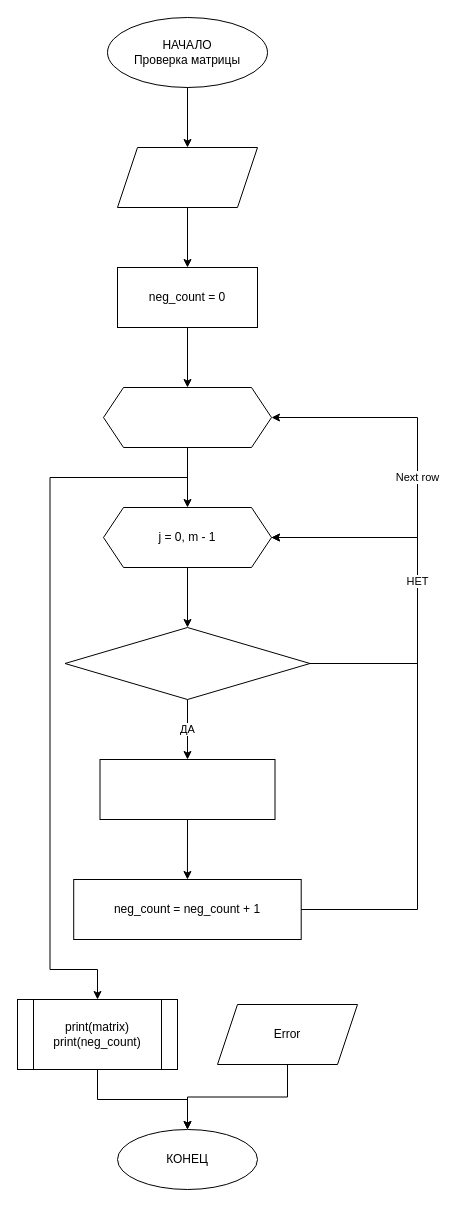
The diagram is 456 pixels wide and 1207 high, and some of its shapes have lost their labels. Here are the shapes that lost their labels. From the top down, the centre of each, then its label:
At [187,177]: "matrix, n, m".
At [187,417]: "i = 0, n - 1".
At [187,663]: "matrix i j < 0".
At [187,789]: "matrix i j = 0".
